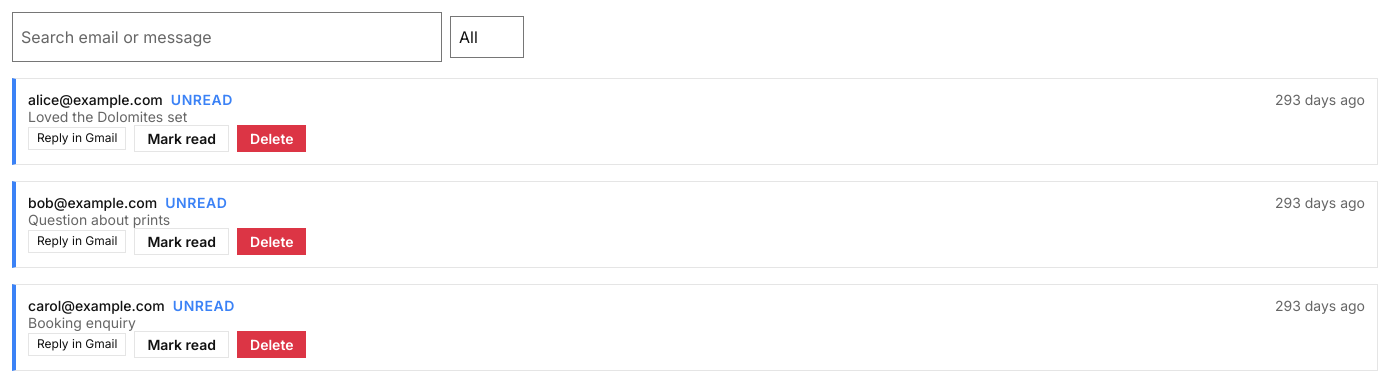
Scenario: CommentsList — server-side search › renders exactly what the backend returned, not a local subset
Type "never" into the search field named "search messages" at x=227, y=37, box x1=12 y1=12 x2=442 y2=62
Wait 300 ms
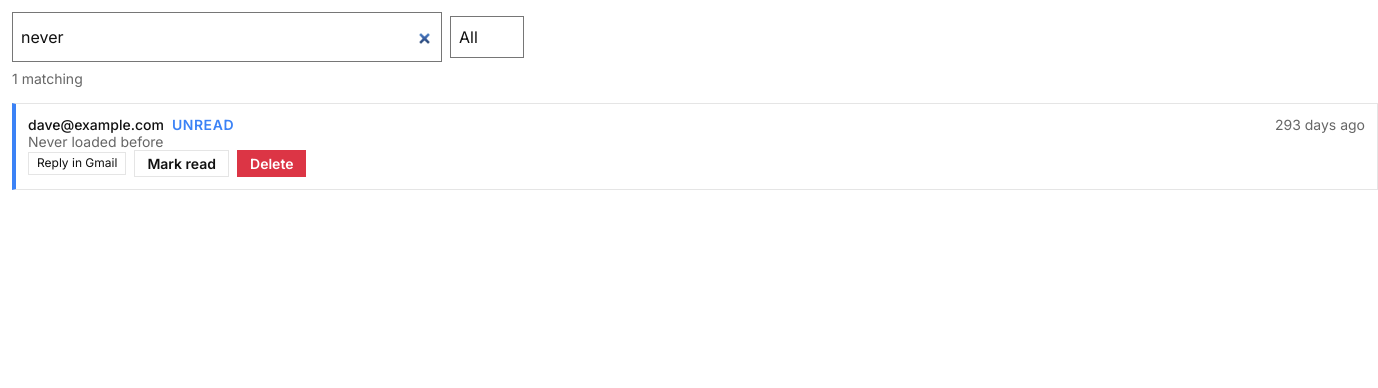
expect the text "Never loaded before" is shown: met, box x1=28 y1=133 x2=164 y2=150
expect the text "Booking enquiry" is gone: met
